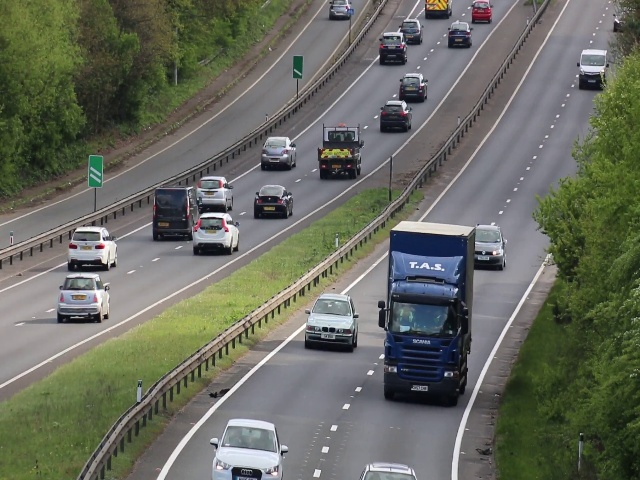car: (388, 255, 459, 406), (214, 418, 283, 480), (302, 293, 359, 351), (57, 273, 110, 324), (152, 187, 200, 240), (317, 125, 363, 178), (66, 226, 119, 268), (191, 211, 240, 255), (473, 224, 507, 271), (577, 47, 609, 93), (198, 174, 235, 213), (253, 184, 294, 219), (261, 136, 296, 170), (380, 99, 411, 134), (377, 31, 408, 65), (397, 71, 430, 101), (447, 22, 472, 49), (400, 17, 424, 44), (471, 1, 494, 25), (326, 1, 355, 19)
